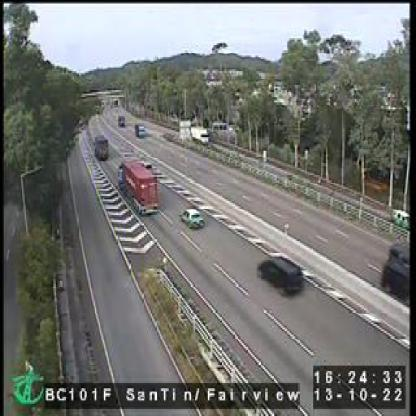Car: (258, 254, 305, 298), (382, 255, 408, 309), (180, 207, 205, 230)
Truck: (117, 160, 160, 216), (190, 126, 212, 146), (95, 134, 110, 162)
